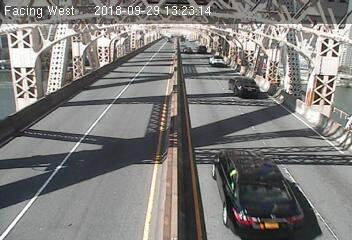car: (207, 146, 309, 237), (225, 76, 263, 97), (208, 52, 227, 68), (181, 45, 195, 55), (196, 44, 208, 55)
